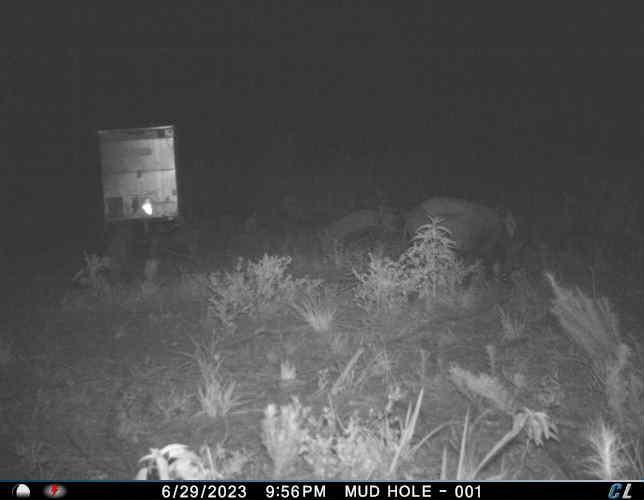Hog: (400, 198, 528, 263), (321, 204, 401, 256)
